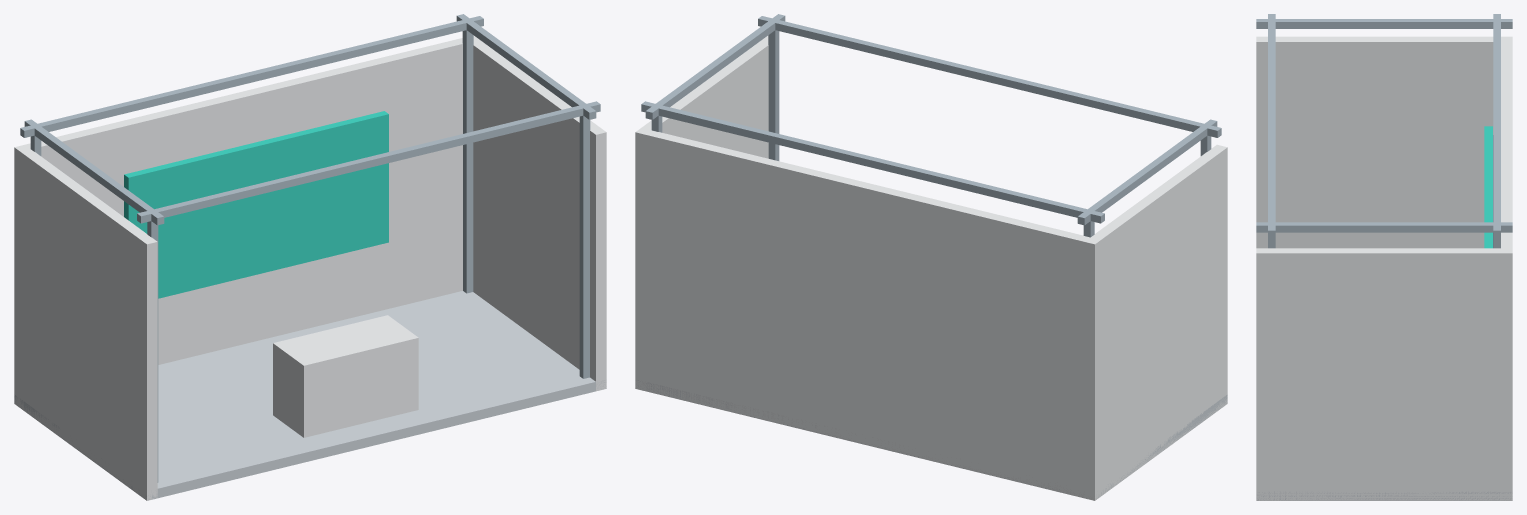
The picture shows the model from 3 angles, left to right: view 1: azimuth 30°, elevation 25°; view 2: azimuth 150°, elevation 25°; view 3: azimuth 270°, elevation 25°; orthographic projection. The views are drawn at different scales.
Visible parts, largest first — view 1: Exhibition Booth Concept; view 2: Exhibition Booth Concept; view 3: Exhibition Booth Concept.
Part boxes in pixels (left/top/right/bottom): Exhibition Booth Concept: left=14, top=14, right=606, bottom=500; Exhibition Booth Concept: left=635, top=14, right=1227, bottom=500; Exhibition Booth Concept: left=1256, top=14, right=1512, bottom=500.
Size of the model in its own units: 6 by 3.49 by 3.
